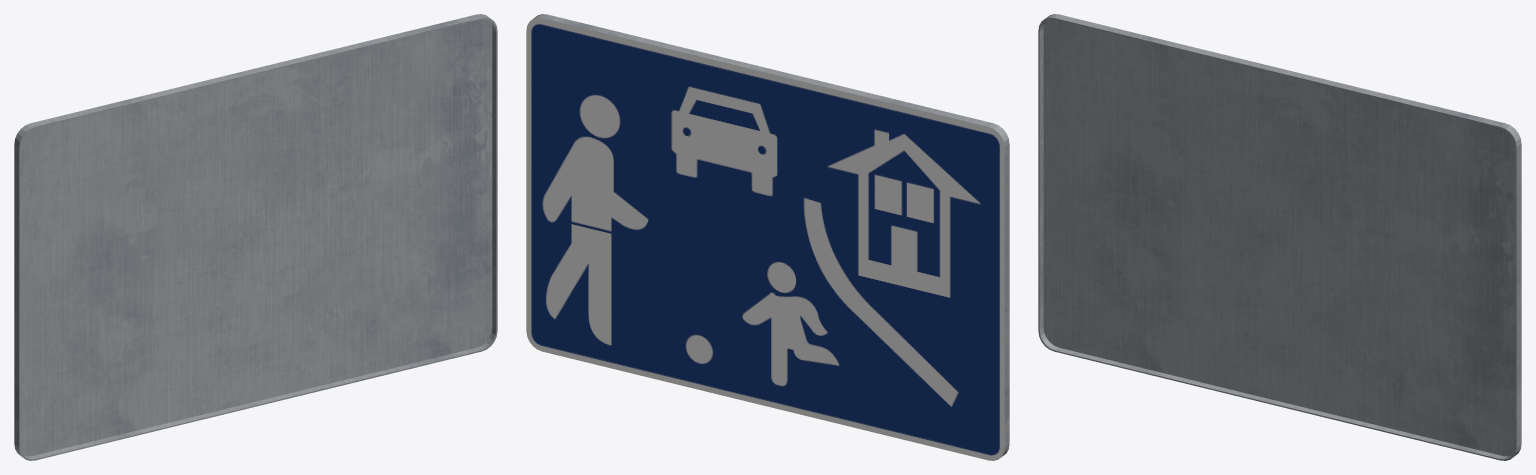
File: Residential_zone.fbx
3 renders of one model, left to right at view 1: azimuth 30°, elevation 25°; view 2: azimuth 150°, elevation 25°; view 3: azimuth 330°, elevation 25°, orthographic.
Parts seen in each view (by area): view 1: Residential zone; view 2: Residential zone; view 3: Residential zone.
Boxes of the visible parts, box(x1,y1,x2,y2) form: Residential zone: box(14, 14, 497, 460); Residential zone: box(526, 14, 1009, 460); Residential zone: box(1038, 14, 1521, 460).
Size of the model in its own units: 0.02 by 1.12 by 0.75.
